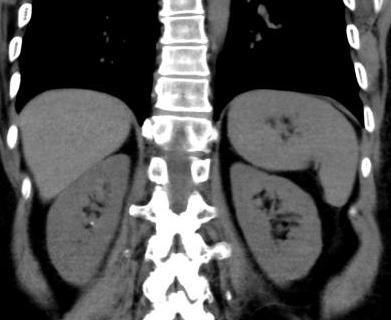Tas_Var: (89, 220, 95, 227)
